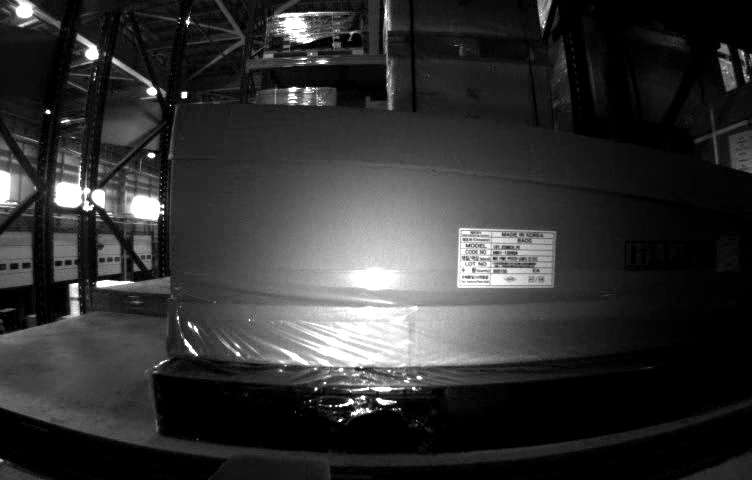True Barcode: (716, 234, 739, 270)
